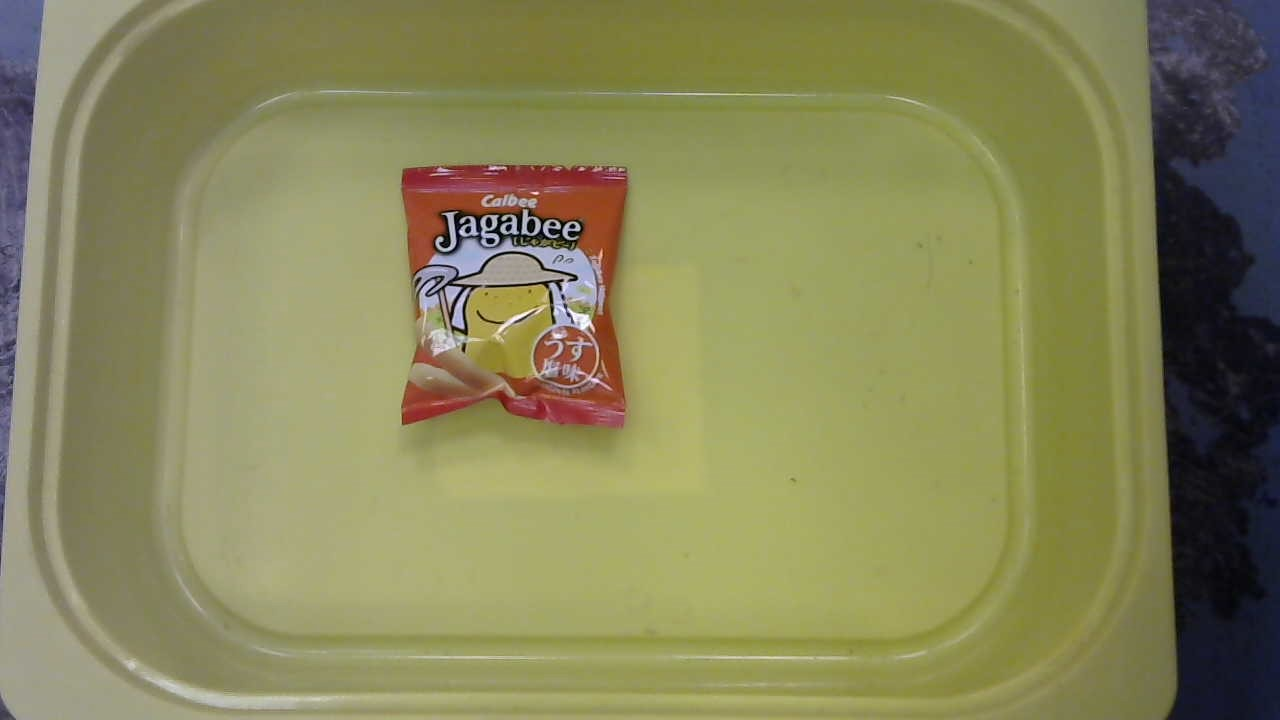JagabeeFarmer: (380, 154, 639, 443)
